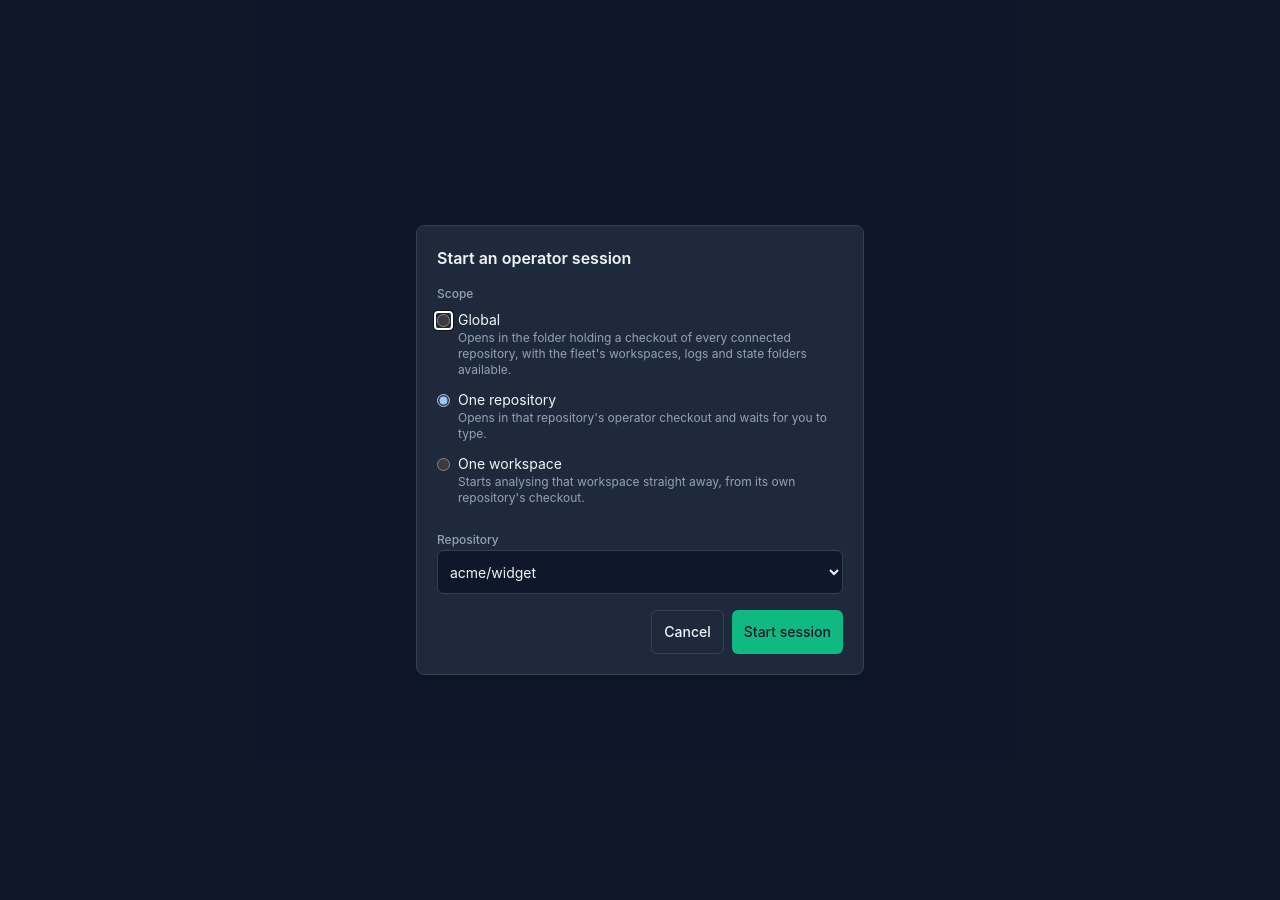
Test case: ScopePickerDialog — starting a session › shows the server's reason when a repository that is not connected is refused
The image size is (1280, 900).
Step 1. Click the button with test id "operator-start-submit" → (787, 632), box [732,610,843,654]
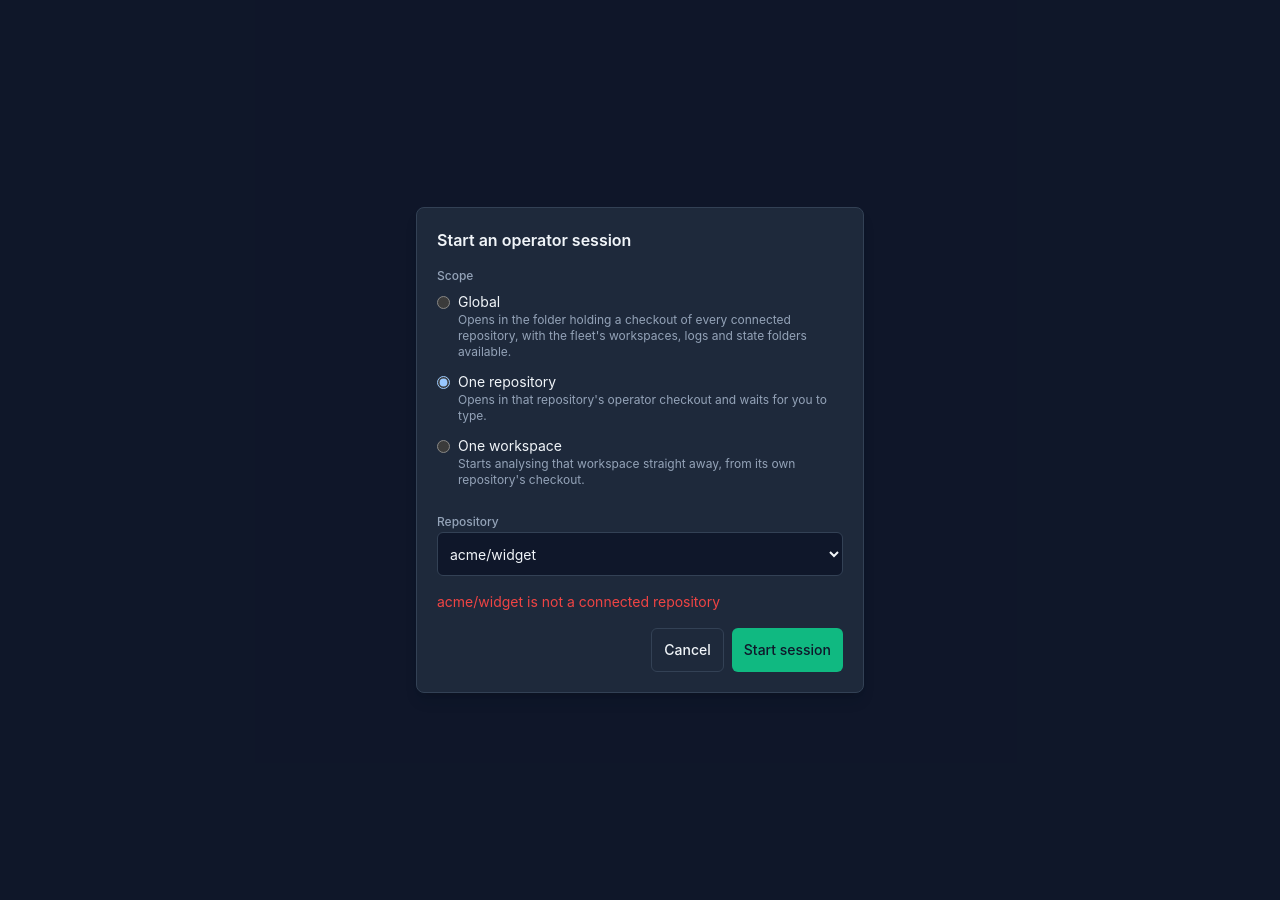
expect the message with test id "operator-start-error" reads "acme/widget is not a connected repository": met, box [437,593,720,610]
